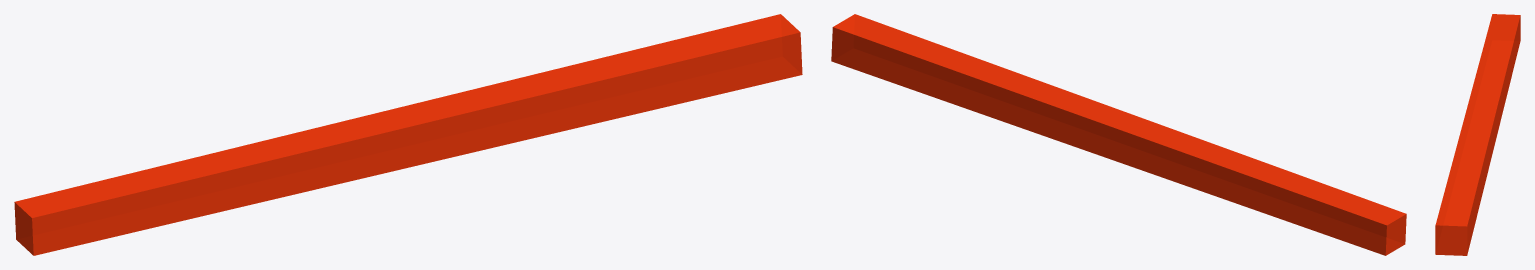
The model's file is Event_420604493_EErechit_46.fbx.
3 views of the same model, side by side, from view 1: azimuth 30°, elevation 25°; view 2: azimuth 150°, elevation 25°; view 3: azimuth 270°, elevation 25° (orthographic). The views are drawn at different scales.
Parts seen in each view (by area): view 1: Model; view 2: Model; view 3: Model.
Boxes of the visible parts, x1=… form: Model: x1=14, y1=14, x2=802, y2=255; Model: x1=831, y1=14, x2=1406, y2=255; Model: x1=1435, y1=14, x2=1520, y2=255.
Size of the model in its own units: 1.45 by 0.1479 by 0.218.
